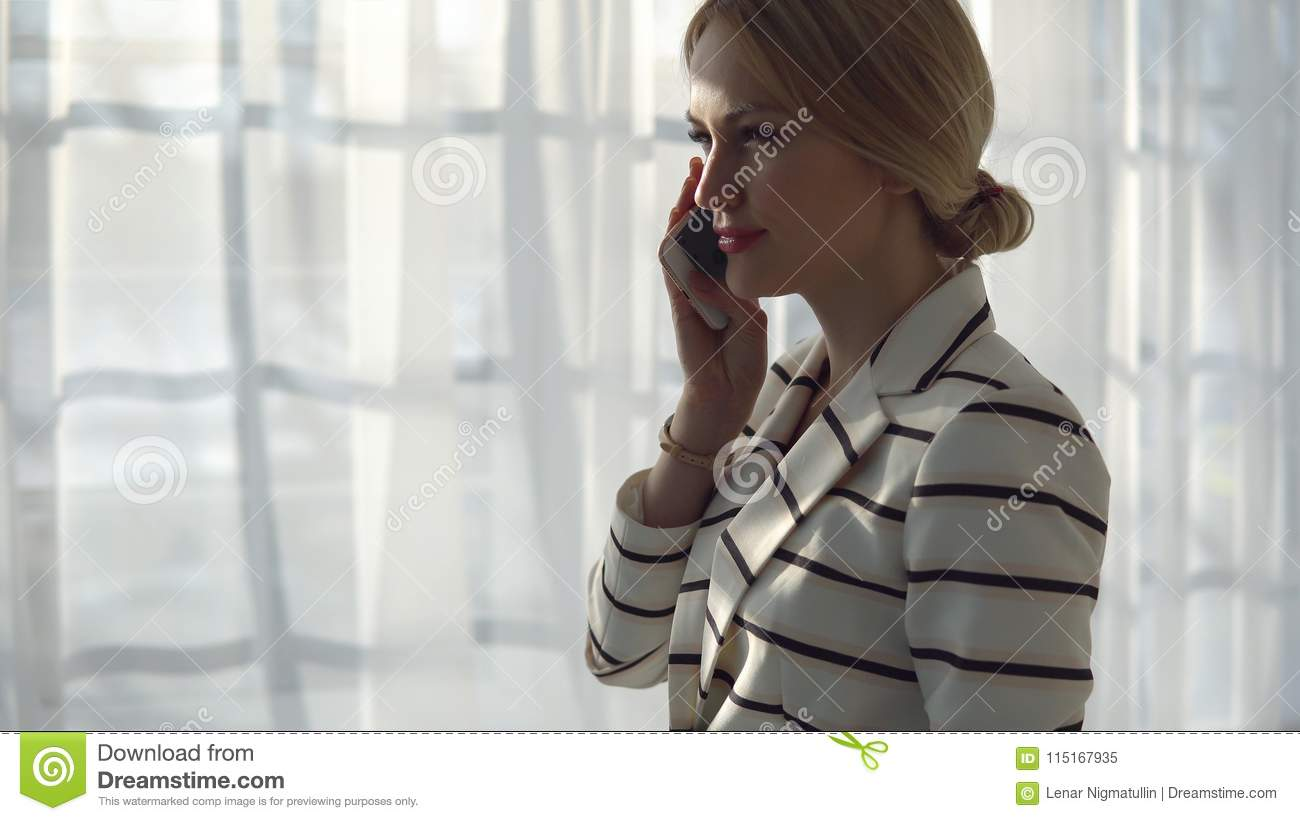phone: (661, 202, 744, 339)
talk: (660, 100, 802, 412)
